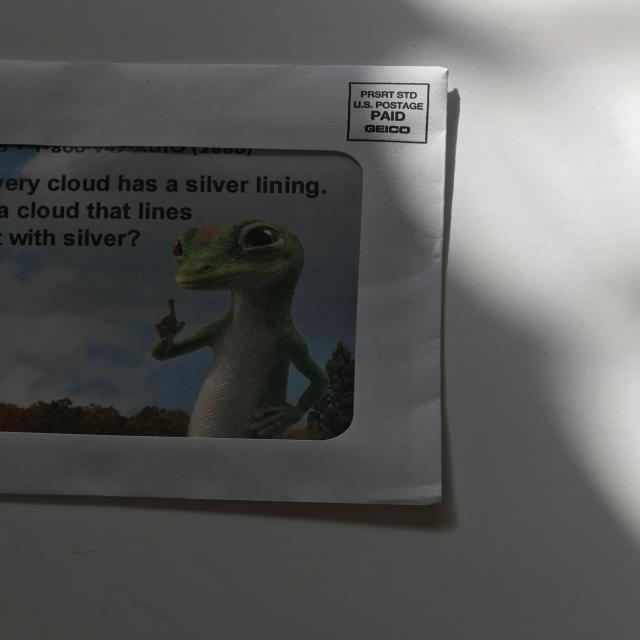paper: (1, 57, 456, 509)
